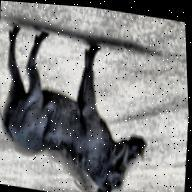boar: (0, 24, 157, 192)
